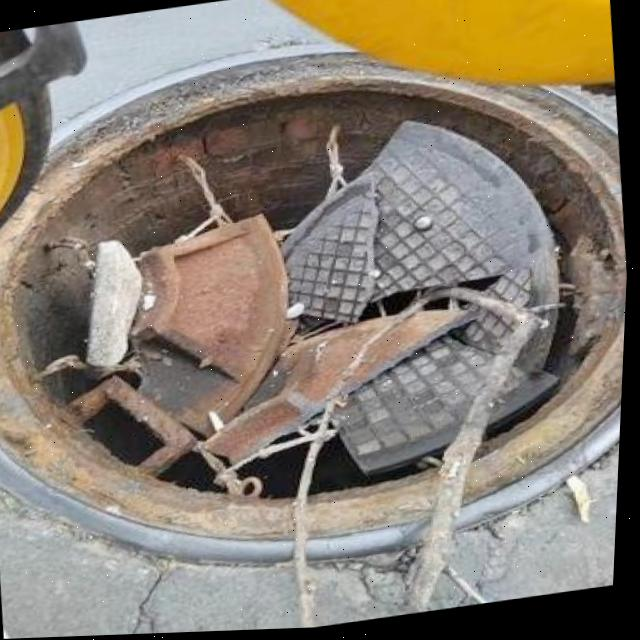manhole: (0, 11, 639, 607)
